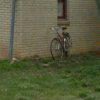Bicycle: (44, 19, 75, 72)
